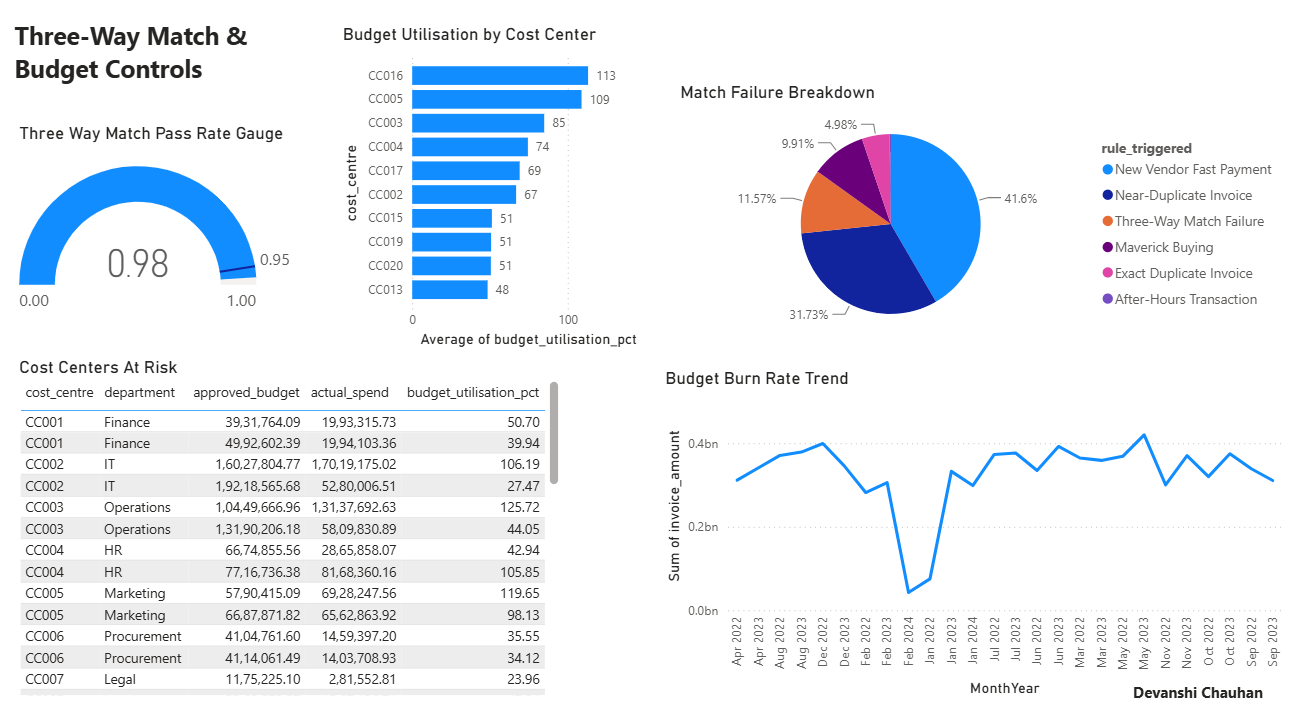

Layout of this report page (visuals, bound fields, positions):
{"tool":"powerbi","page":{"name":"Match & Budget Controls","canvas":[1280,720],"ordinal":3},"visuals":[{"type":"gauge","title":"Three Way Match Pass Rate Gauge","fields":{"TargetValue":["_Measures.Match Pass Rate Target"],"Y":["_Measures.Match Pass Rate"]},"box":[26.2,131.2,280,213.8],"z":0},{"type":"pieChart","title":"Match Failure Breakdown","fields":{"Category":["powerbi_master_export.rule_triggered"],"Y":["CountNonNull(powerbi_master_export.invoice_number)"]},"box":[672.5,90,597.5,255],"z":1000},{"type":"barChart","title":"Budget Utilisation by Cost Center","fields":{"Category":["budget_for_powerbi.cost_centre"],"Y":["Avg(budget_for_powerbi.budget_utilisation_pct)"]},"box":[341.9,34.6,316,321.7],"z":2000},{"type":"tableEx","title":"Cost Centers At Risk","fields":{"Values":["budget_for_powerbi.cost_centre","budget_for_powerbi.department","budget_for_powerbi.approved_budget","budget_for_powerbi.actual_spend","budget_for_powerbi.budget_utilisation_pct"]},"box":[26.2,360,537.5,336.2],"z":3000},{"type":"lineChart","title":"Budget Burn Rate Trend","fields":{"Category":["DateTable.MonthYear"],"Y":["Sum(powerbi_master_export.invoice_amount)"]},"box":[657.5,370,612.5,326.2],"z":4000},{"type":"textbox","box":[20.2,24.5,274.1,82.2],"z":4001},{"type":"textbox","box":[1115.3,672.3,145.7,33.2],"z":4002}]}

Visuals, with their boxes in screenshot pixels (x1, y1, x2, y2), scaled from the page's 1280x720 canvas onto the 1292x707 screenshot:
"Three Way Match Pass Rate Gauge" gauge: x1=26 y1=129 x2=309 y2=339
"Match Failure Breakdown" pieChart: x1=679 y1=88 x2=1282 y2=339
"Budget Utilisation by Cost Center" barChart: x1=345 y1=34 x2=664 y2=350
"Cost Centers At Risk" tableEx: x1=26 y1=354 x2=569 y2=684
"Budget Burn Rate Trend" lineChart: x1=664 y1=363 x2=1282 y2=684
textbox: x1=20 y1=24 x2=297 y2=105
textbox: x1=1126 y1=660 x2=1273 y2=693
